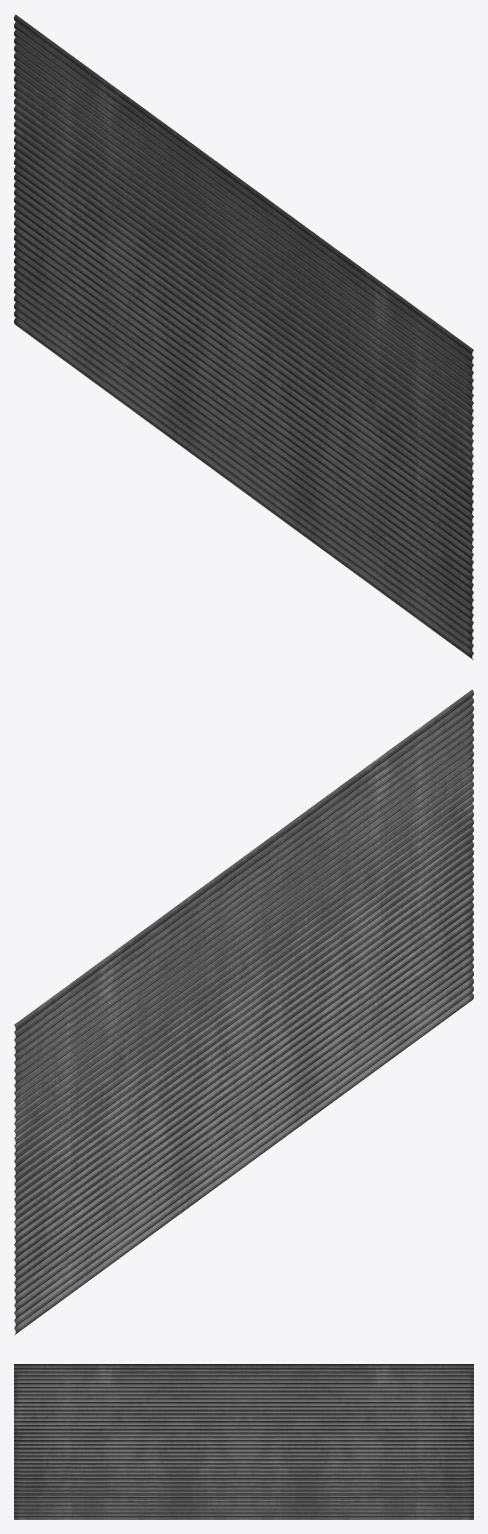
The model's file is SM_Shutter_01_Wide.fbx.
The picture shows the model from 3 angles, top to bottom: view 1: azimuth 30°, elevation 25°; view 2: azimuth 150°, elevation 25°; view 3: azimuth 270°, elevation 25°; orthographic projection. The views are drawn at different scales.
Visible parts, largest first — view 1: SM_Shutter_01_Wide_LOD0; view 2: SM_Shutter_01_Wide_LOD0; view 3: SM_Shutter_01_Wide_LOD0.
Boxes of the visible parts, x1,y1,x2,y2 form: SM_Shutter_01_Wide_LOD0: (14, 14, 473, 660); SM_Shutter_01_Wide_LOD0: (14, 689, 473, 1335); SM_Shutter_01_Wide_LOD0: (14, 1364, 473, 1519).
Bounding box in the file's own units: 1.6 × 804 × 301.
